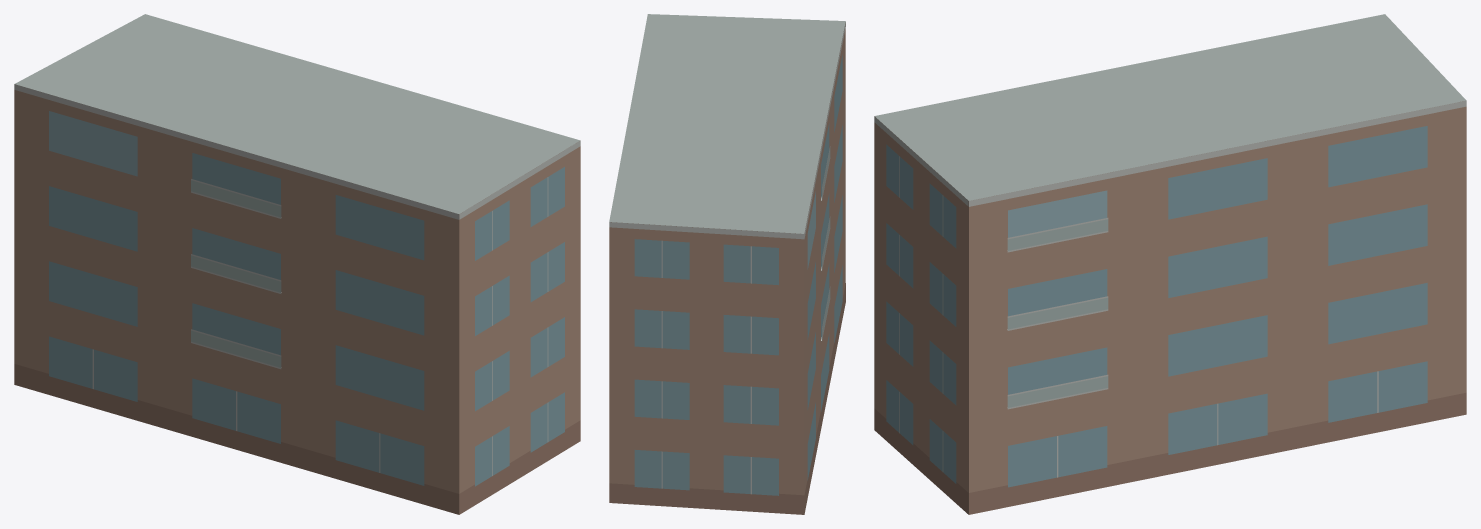
File: survey-upis-32742493.glb
3 views of the same model, side by side, from view 1: azimuth 30°, elevation 25°; view 2: azimuth 150°, elevation 25°; view 3: azimuth 270°, elevation 25° (orthographic). The views are drawn at different scales.
Visible parts, largest first — view 1: survey-upis-32742493.tmp; view 2: survey-upis-32742493.tmp; view 3: survey-upis-32742493.tmp.
Part boxes in pixels (x1=…): survey-upis-32742493.tmp: x1=14, y1=14, x2=580, y2=514; survey-upis-32742493.tmp: x1=609, y1=14, x2=845, y2=514; survey-upis-32742493.tmp: x1=874, y1=14, x2=1466, y2=514.
Size of the model in its own units: 16.36 by 12.8 by 21.9.
